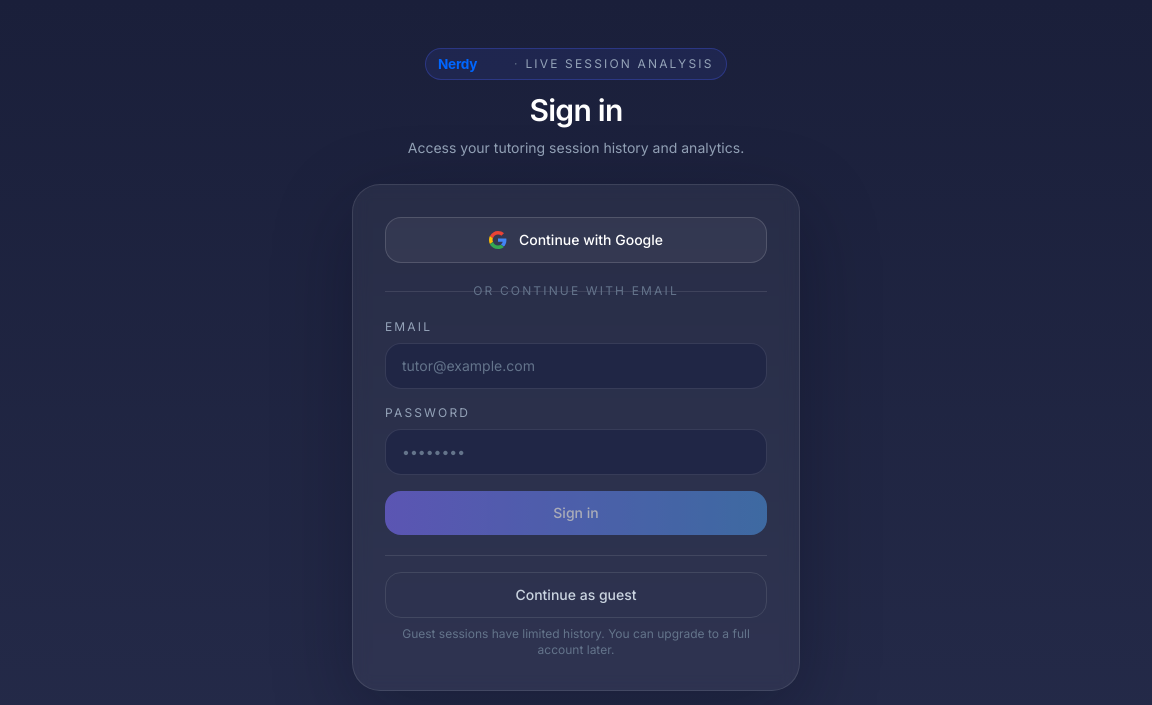
Test: LoginPage › shows error message when credentials are wrong
Type "user@test.com" into the field with test id "email-input".
click(576, 366); type("user@test.com")  # box top-left (385, 343), bottom-right (767, 389)
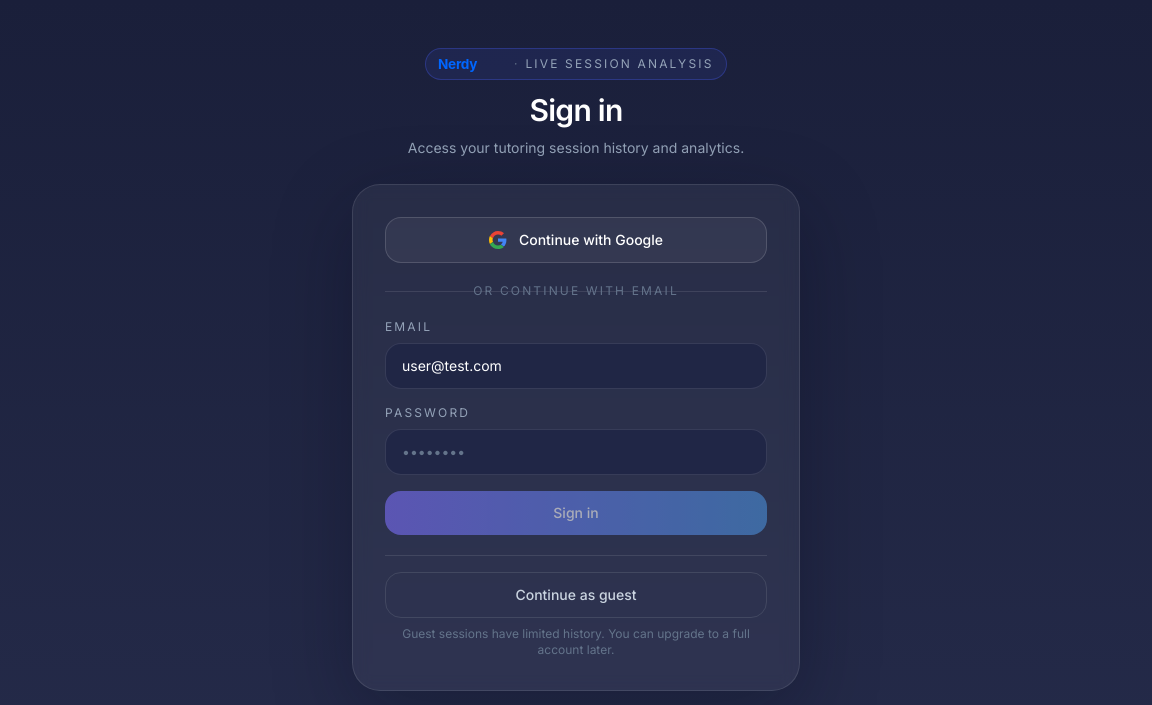
Type "wrongpass" into the password field with test id "password-input".
click(576, 452); type("wrongpass")  # box top-left (385, 429), bottom-right (767, 475)
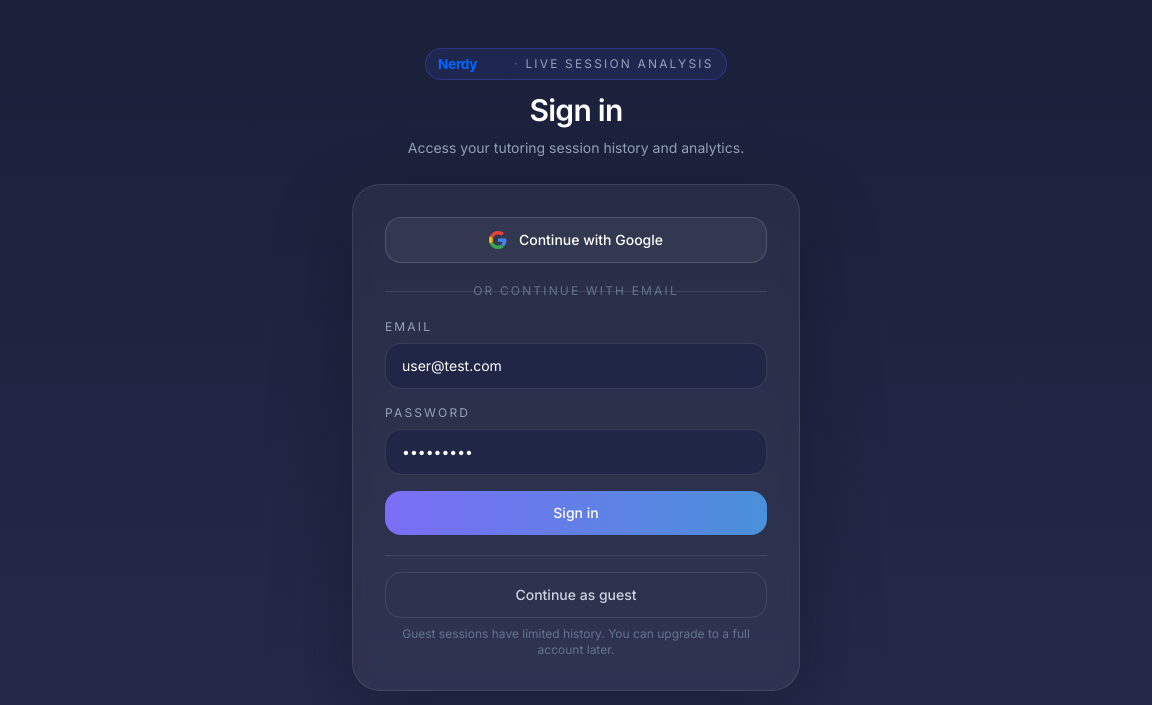
Click the button with test id "email-signin-button".
click(576, 513)  # box top-left (385, 491), bottom-right (767, 535)
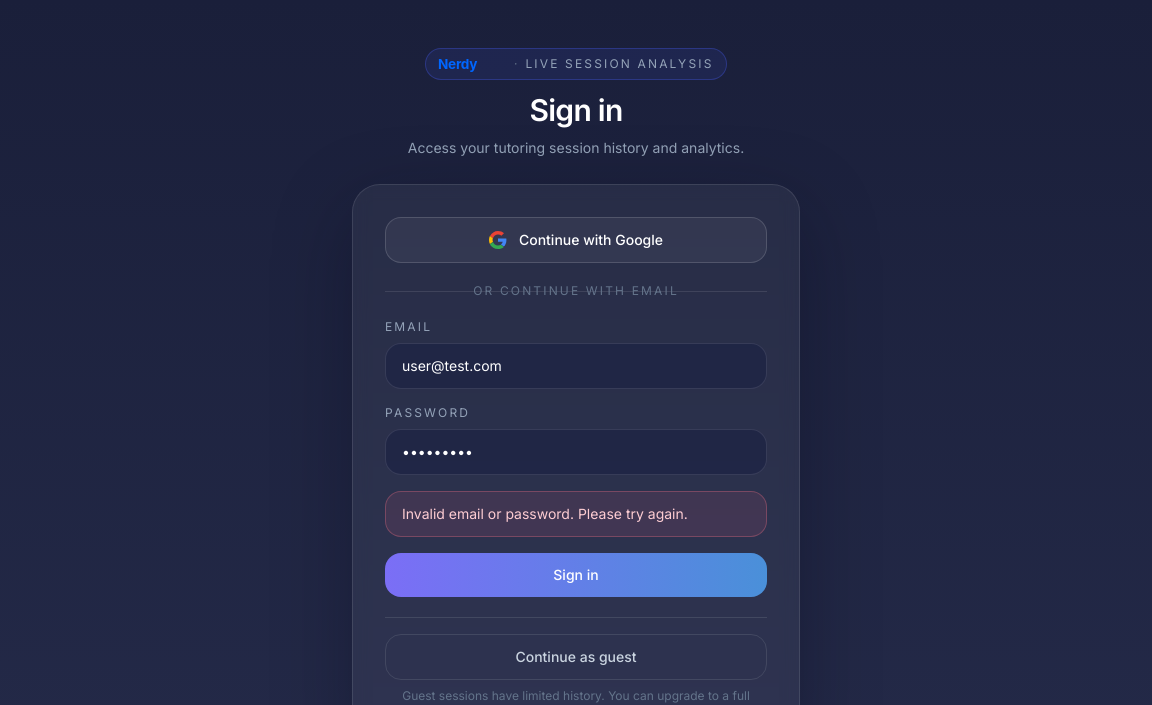
Expected: the text "Invalid email or password. Please try again." is shown, top-left (385, 491), bottom-right (767, 537)
